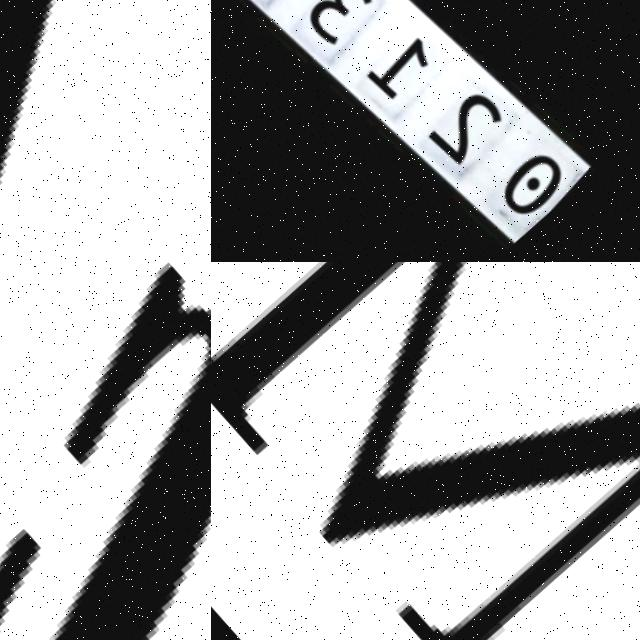0: (485, 113, 599, 232)
1: (359, 4, 467, 116)
2: (420, 57, 536, 178)
3: (292, 0, 403, 60)
7: (0, 0, 211, 262)
C: (49, 262, 211, 640)
M: (211, 262, 640, 640)
